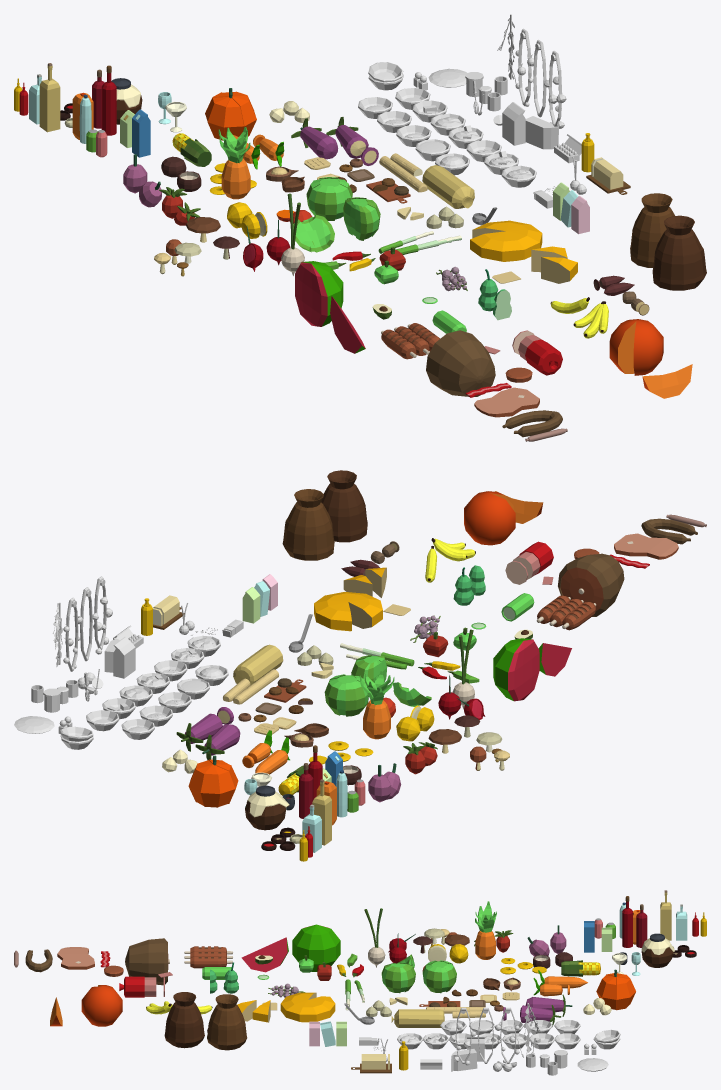
File: nowe textury2.fbx
The picture shows the model from 3 angles, top to bottom: view 1: azimuth 30°, elevation 25°; view 2: azimuth 150°, elevation 25°; view 3: azimuth 270°, elevation 25°; orthographic projection. The views are drawn at different scales.
Parts seen in each view (by area): view 1: Sphere087, Cone001, Sphere176, Sphere144, Sphere077, Cone002, Sphere185, Sphere108, Box219, Box223, Sphere136, Sphere178 (+15 smaller); view 2: Cone002, Sphere087, Cone001, Sphere144, Sphere176, Sphere077, Sphere185, Sphere108, Sphere109, Box223, Box219, Torus008 (+7 smaller); view 3: Cone001, Cone002, Sphere144, Sphere087, Sphere176, Sphere077, Sphere185, Box219, Sphere108, Sphere109, Sphere136, Sphere145 (+19 smaller).
Part boxes in pixels (bbox=[...]): Sphere087: bbox=[426, 330, 495, 396]; Cone001: bbox=[652, 215, 706, 290]; Sphere176: bbox=[609, 319, 663, 375]; Sphere144: bbox=[295, 261, 343, 326]; Sphere077: bbox=[470, 220, 542, 261]; Cone002: bbox=[630, 193, 674, 267]; Sphere185: bbox=[205, 91, 256, 140]; Sphere108: bbox=[306, 177, 352, 220]; Box219: bbox=[422, 165, 474, 208]; Box223: bbox=[474, 387, 539, 417]; Sphere136: bbox=[343, 197, 380, 240]; Sphere178: bbox=[293, 215, 334, 252]; Cone002: bbox=[282, 489, 334, 560]; Sphere087: bbox=[558, 553, 624, 616]; Cone001: bbox=[321, 470, 367, 542]; Sphere144: bbox=[493, 638, 539, 701]; Sphere176: bbox=[464, 491, 515, 545]; Sphere077: bbox=[314, 592, 382, 631]; Sphere185: bbox=[188, 759, 238, 807]; Sphere108: bbox=[324, 674, 368, 716]; Sphere109: bbox=[245, 785, 289, 830]; Box223: bbox=[614, 533, 678, 559]; Box219: bbox=[233, 644, 283, 685]; Torus008: bbox=[641, 518, 697, 544]; Cone001: bbox=[164, 992, 204, 1048]; Cone002: bbox=[207, 994, 247, 1050]; Sphere144: bbox=[292, 924, 340, 971]; Sphere087: bbox=[125, 938, 169, 985]; Sphere176: bbox=[81, 985, 122, 1026]; Sphere077: bbox=[280, 992, 335, 1022]; Sphere185: bbox=[596, 973, 635, 1010]; Box219: bbox=[391, 1009, 444, 1027]; Sphere108: bbox=[422, 960, 456, 993]; Sphere109: bbox=[641, 933, 674, 967]; Sphere136: bbox=[381, 962, 415, 993]; Sphere145: bbox=[241, 937, 288, 972].
Size of the model in its own units: 980 by 270 by 1868.
206 materials, 206 textured.
